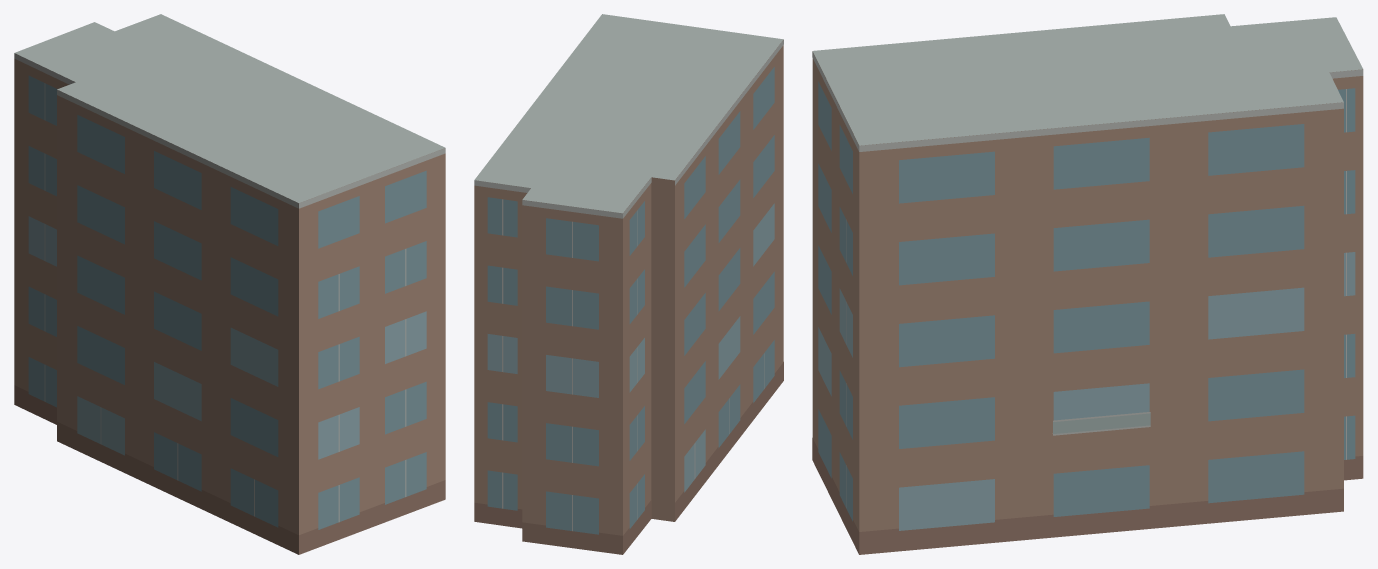
The model's file is survey-upis-32917212.glb.
The picture shows the model from 3 angles, left to right: view 1: azimuth 30°, elevation 25°; view 2: azimuth 150°, elevation 25°; view 3: azimuth 270°, elevation 25°; orthographic projection. The views are drawn at different scales.
Parts seen in each view (by area): view 1: survey-upis-32917212.tmp; view 2: survey-upis-32917212.tmp; view 3: survey-upis-32917212.tmp.
Boxes of the visible parts, x1,y1,x2,y2 form: survey-upis-32917212.tmp: [14, 14, 445, 554]; survey-upis-32917212.tmp: [474, 14, 783, 554]; survey-upis-32917212.tmp: [812, 14, 1363, 554].
Size of the model in its own units: 10.63 by 15.4 by 18.8.
